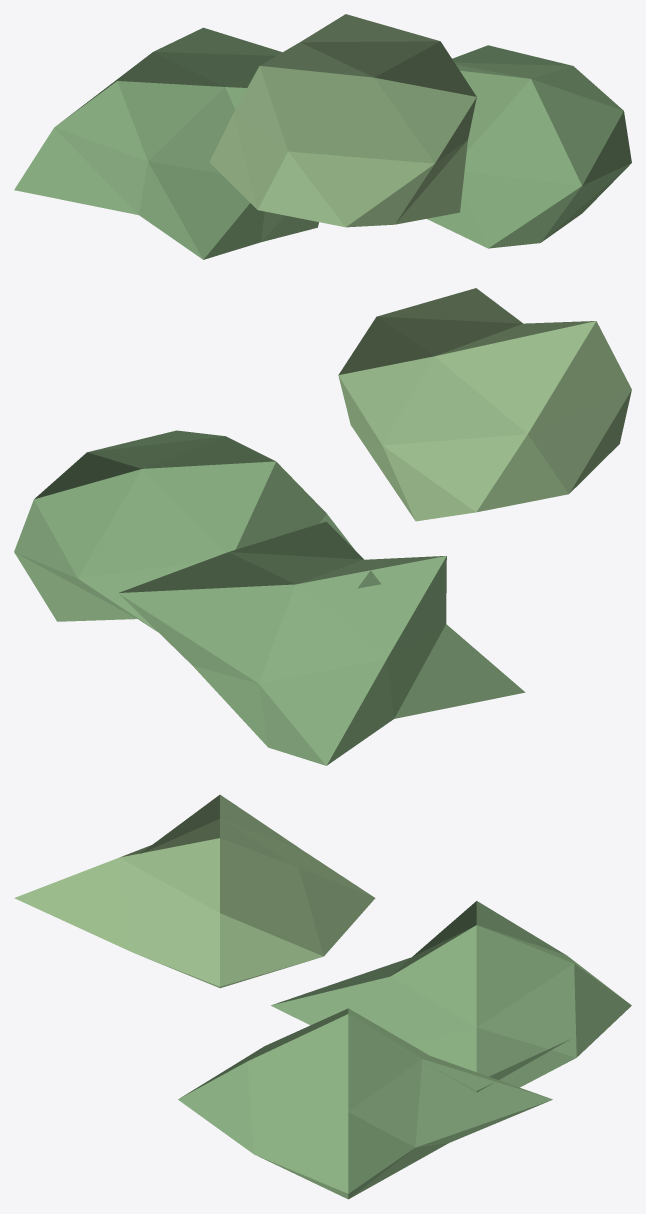
File: shrub_v25.glb
3 views of the same model, one above another, from view 1: azimuth 30°, elevation 25°; view 2: azimuth 150°, elevation 25°; view 3: azimuth 270°, elevation 25° (orthographic). The views are drawn at different scales.
Parts seen in each view (by area): view 1: lod0; view 2: lod0; view 3: lod0.
Boxes of the visible parts, <box> form: lod0: <box>14,14,631,259</box>; lod0: <box>14,288,631,765</box>; lod0: <box>14,794,631,1199</box>.
Size of what is drawn, in the model's own units: 0.9461 by 0.5875 by 1.04.
